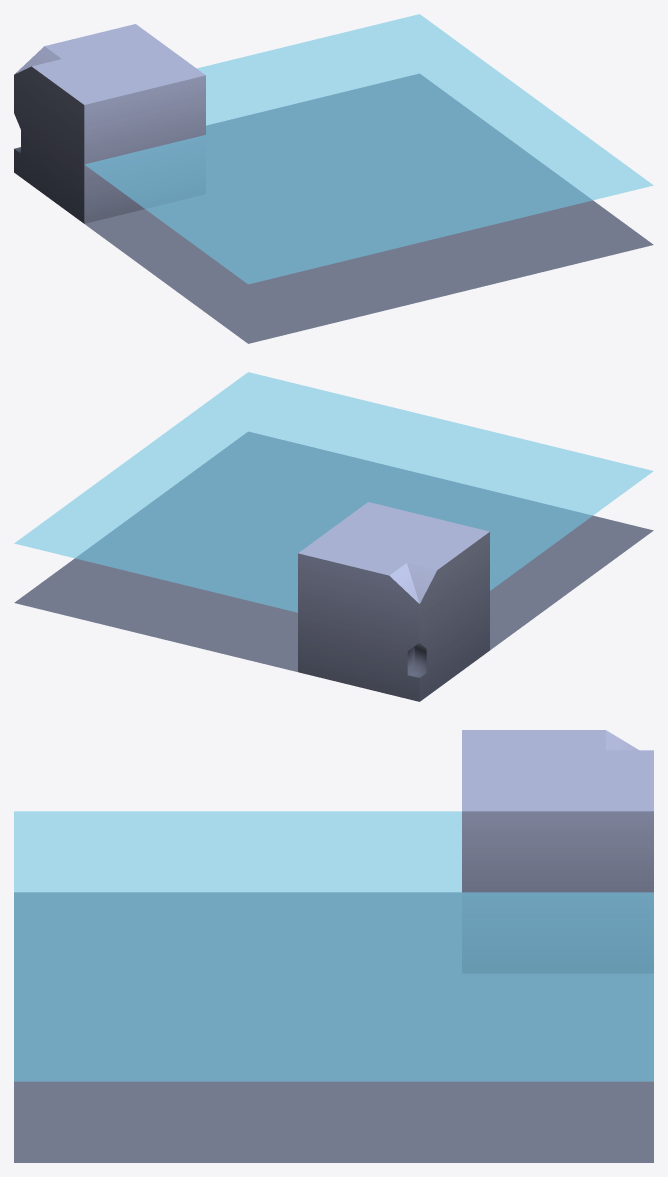
File: fountain-corner-inner-square.glb
The picture shows the model from 3 angles, top to bottom: view 1: azimuth 30°, elevation 25°; view 2: azimuth 150°, elevation 25°; view 3: azimuth 270°, elevation 25°; orthographic projection. The views are drawn at different scales.
Parts seen in each view (by area): view 1: fountain-corner-inner-square, (%ignore); view 2: fountain-corner-inner-square, (%ignore); view 3: fountain-corner-inner-square, (%ignore).
Part boxes in pixels (box(x1,y1,x2,y2)): fountain-corner-inner-square: box(14, 24, 653, 343); (%ignore): box(84, 14, 653, 284); fountain-corner-inner-square: box(14, 432, 653, 701); (%ignore): box(14, 372, 653, 612); fountain-corner-inner-square: box(14, 730, 653, 1162); (%ignore): box(14, 811, 653, 1081).
Bounding box in the file's own units: 1 × 0.28 × 1.
Materials: 2 (1 with a texture image).
